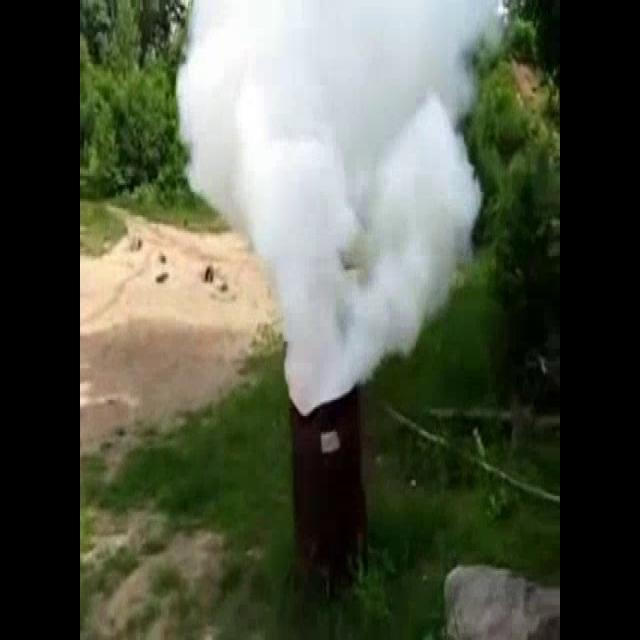Smoke: (246, 98, 484, 408), (176, 0, 504, 224)
